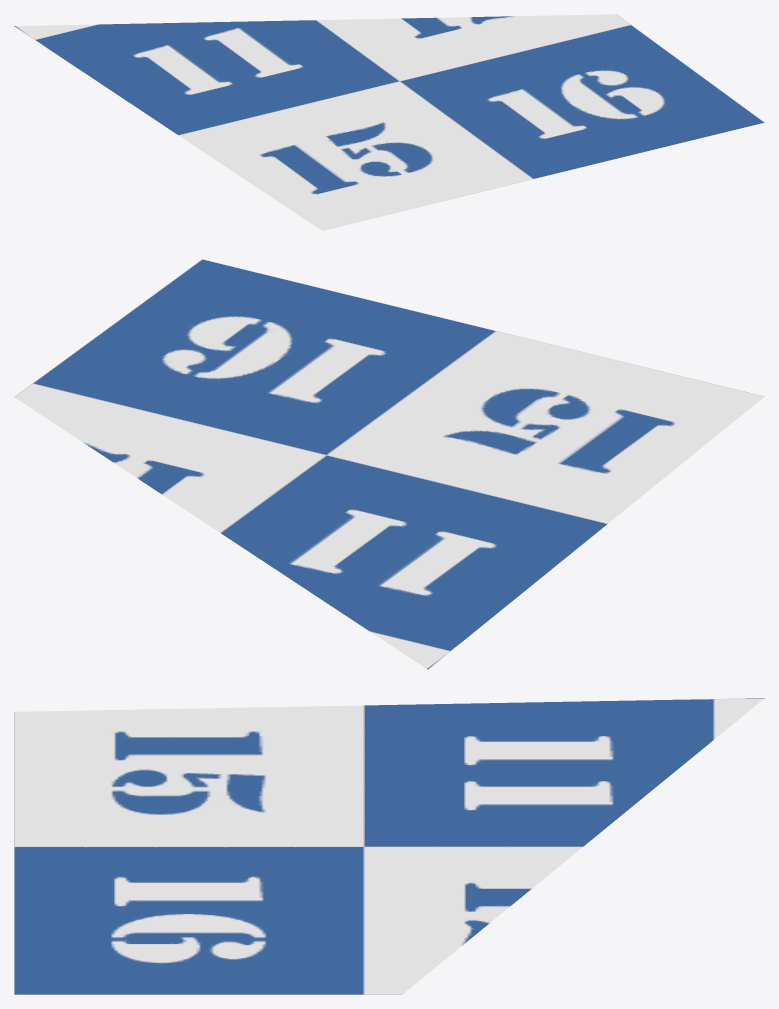
The model's file is Rui_Fragment4.fbx.
3 views of the same model, one above another, from view 1: azimuth 30°, elevation 25°; view 2: azimuth 150°, elevation 25°; view 3: azimuth 270°, elevation 25° (orthographic). The views are drawn at different scales.
Visible parts, largest first — view 1: SM_e_Plc_P1007_Fragment004; view 2: SM_e_Plc_P1007_Fragment004; view 3: SM_e_Plc_P1007_Fragment004.
Part boxes in pixels (x1,y1,x2,y2): SM_e_Plc_P1007_Fragment004: (14,14,764,230); SM_e_Plc_P1007_Fragment004: (14,259,764,669); SM_e_Plc_P1007_Fragment004: (14,698,764,994).
Bounding box in the file's own units: 50.13 × 1.19e-14 × 53.63.
